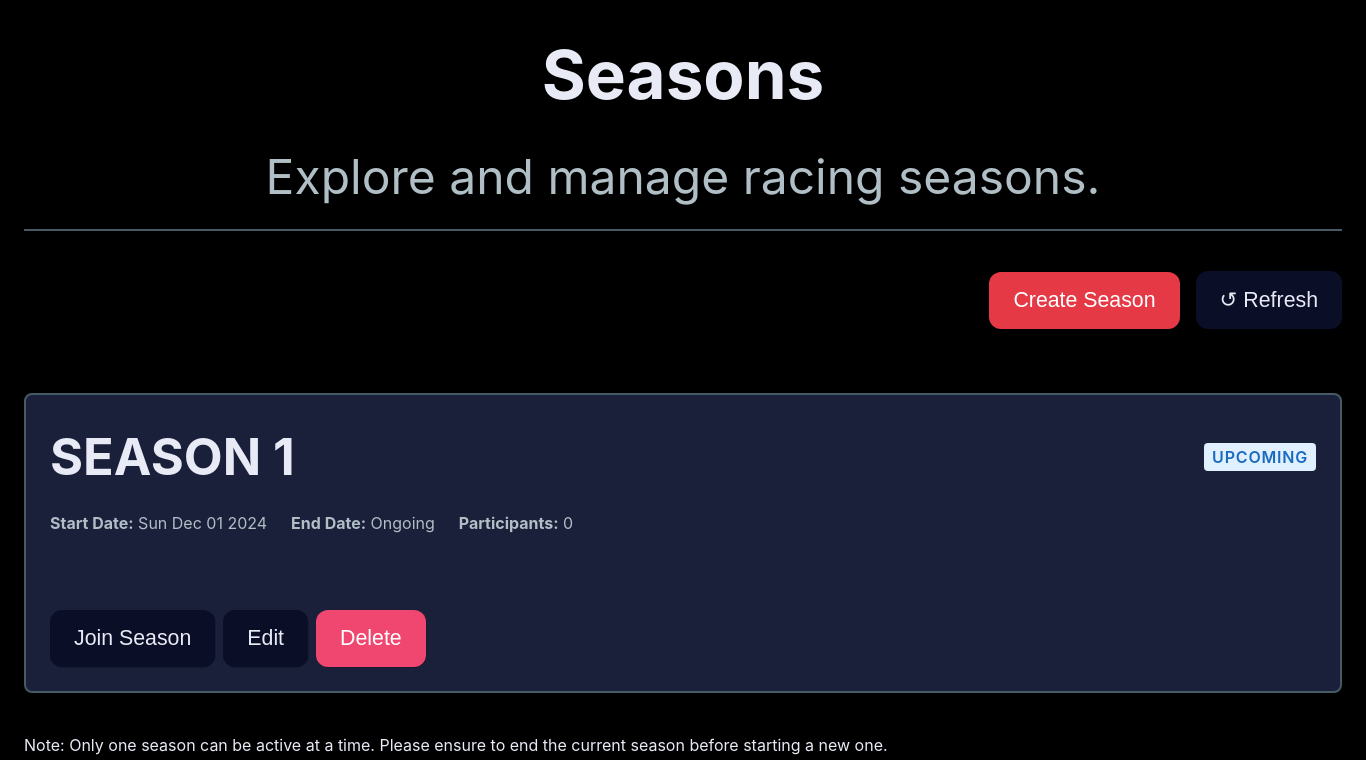
Test case: Given a Seasons page › When interacting with modals › opens edit season modal when edit button is clicked
The width and height of the screenshot is (1366, 760).
Click the button "Edit" at (266, 638), box [223, 610, 308, 667]
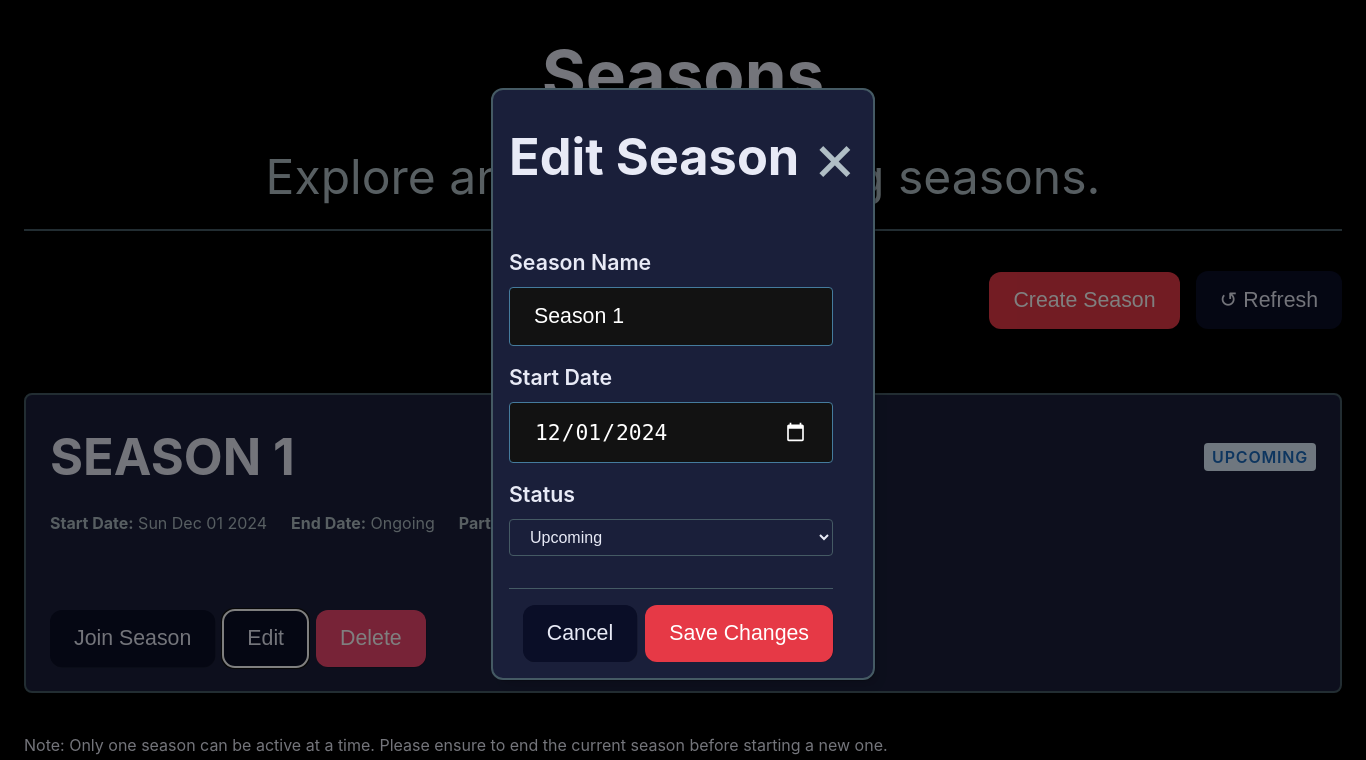
Expected: the heading "Edit Season" is shown, [509, 119, 799, 194]
Expected: the field labelled "Season Name" holds "Season 1", [509, 287, 833, 346]
Expected: the date field labelled "Start Date" holds "2024-12-01", [509, 402, 833, 463]
